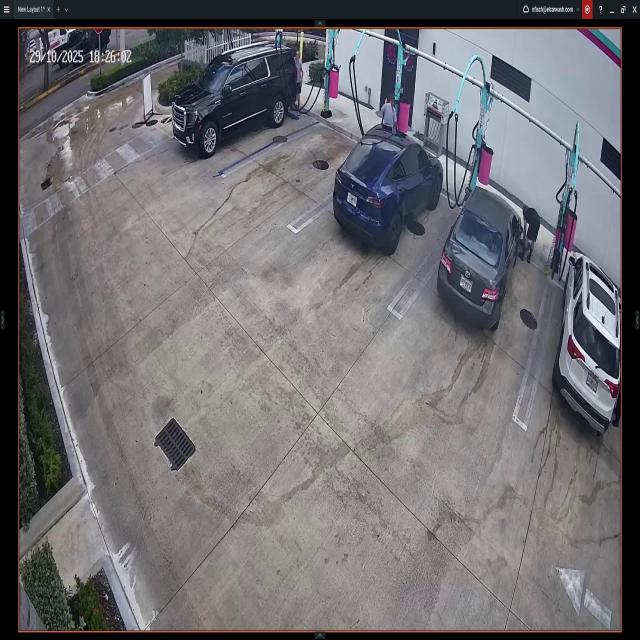Car: (172, 41, 298, 158), (334, 124, 443, 245), (557, 252, 621, 434), (439, 185, 522, 325)
